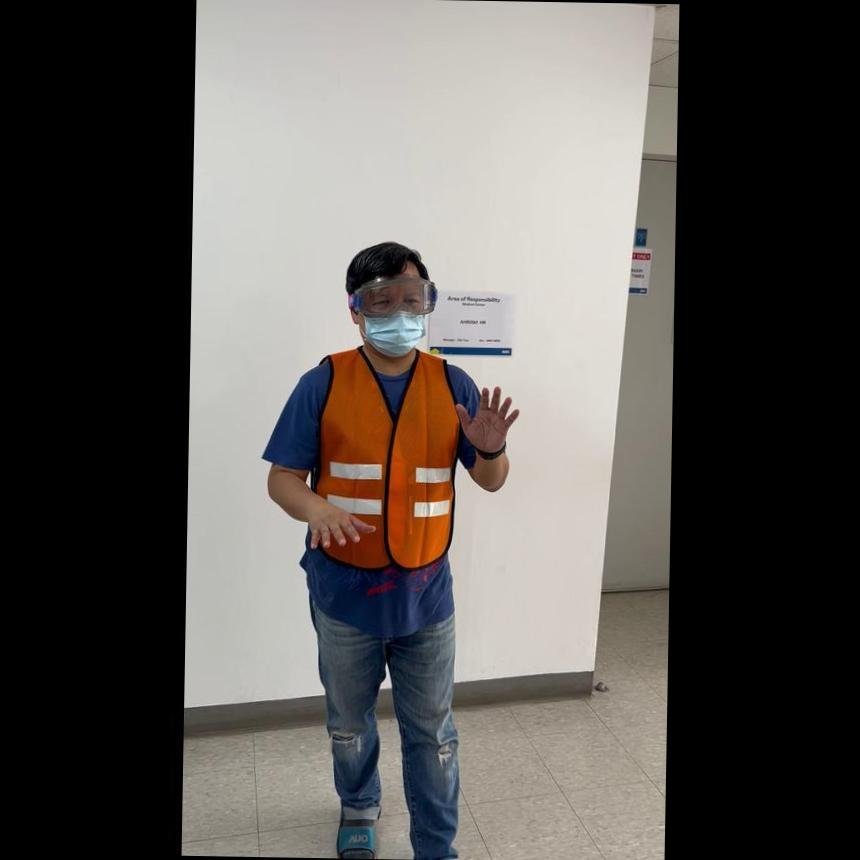No-gloves: (452, 376, 518, 456), (300, 487, 368, 554)
